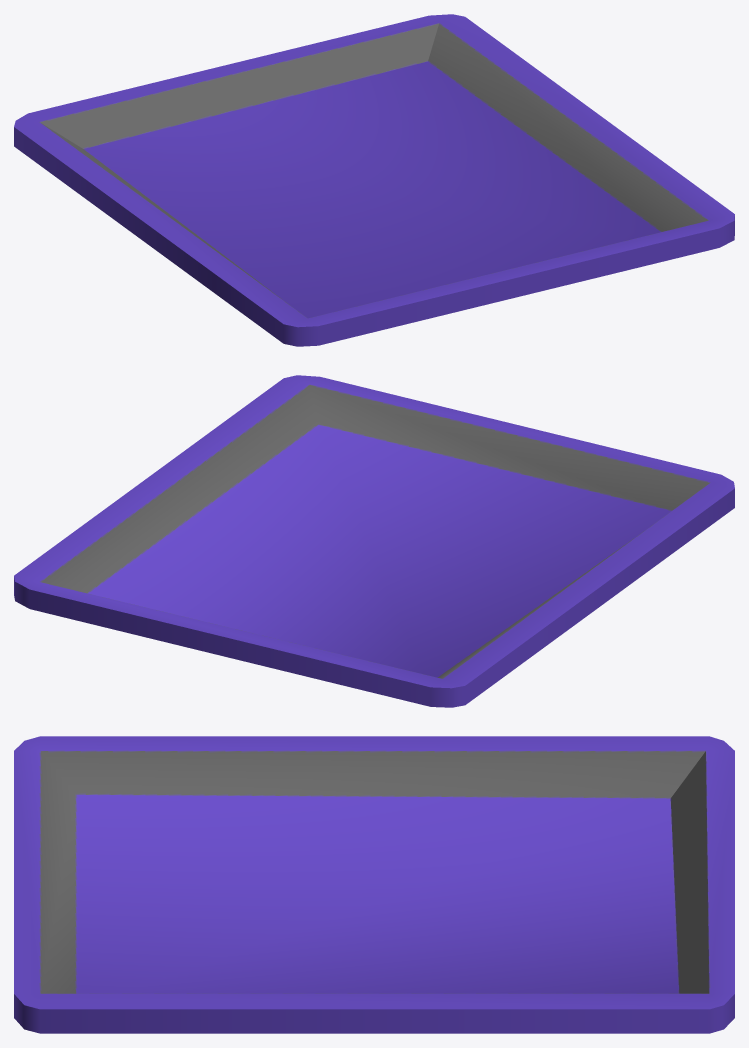
File: fodtray.FBX
3 views of the same model, one above another, from view 1: azimuth 30°, elevation 25°; view 2: azimuth 150°, elevation 25°; view 3: azimuth 270°, elevation 25° (orthographic). The views are drawn at different scales.
Visible parts, largest first — view 1: Box001; view 2: Box001; view 3: Box001.
Boxes of the visible parts, box(x1,y1,x2,y2) form: Box001: box(14, 14, 734, 346); Box001: box(14, 375, 734, 707); Box001: box(14, 736, 734, 1033).
Size of the model in its own units: 40.79 by 2.21 by 45.49.
1 material, 1 textured.
